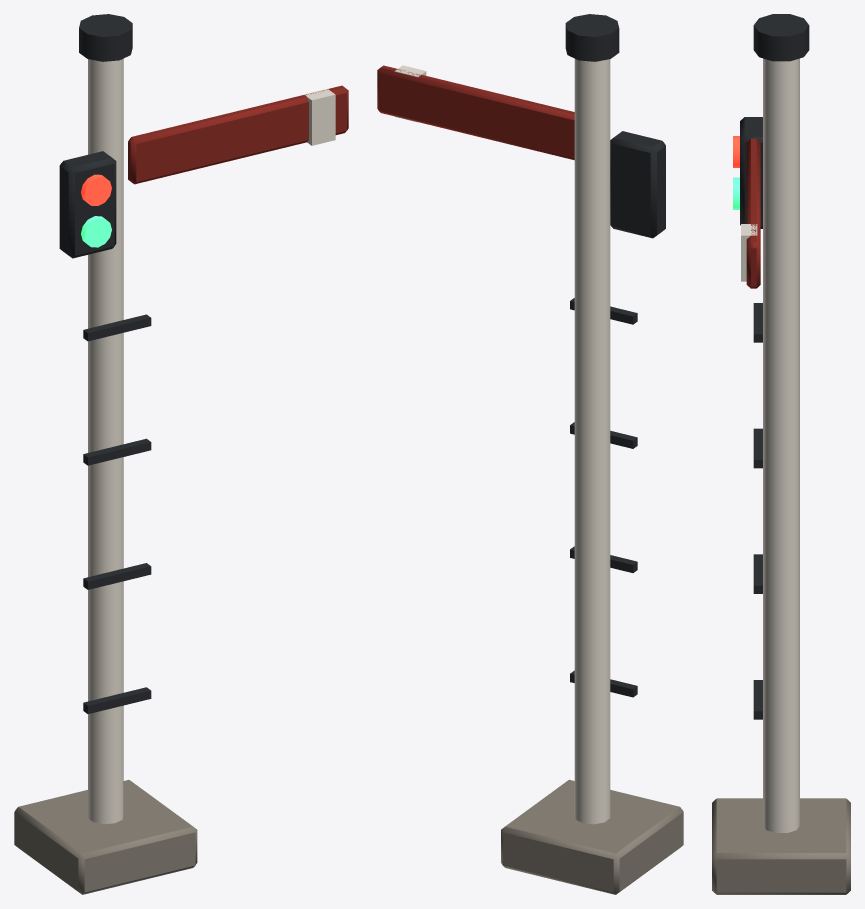
File: senal.glb
3 views of the same model, side by side, from view 1: azimuth 30°, elevation 25°; view 2: azimuth 150°, elevation 25°; view 3: azimuth 270°, elevation 25° (orthographic).
Parts seen in each view (by area): view 1: senal; view 2: senal; view 3: senal.
Part boxes in pixels (box(x1,y1,x2,y2)): senal: box(14, 14, 348, 894); senal: box(377, 14, 683, 894); senal: box(712, 14, 850, 894).
Size of the model in its own units: 0.725 by 2.01 by 0.3.
